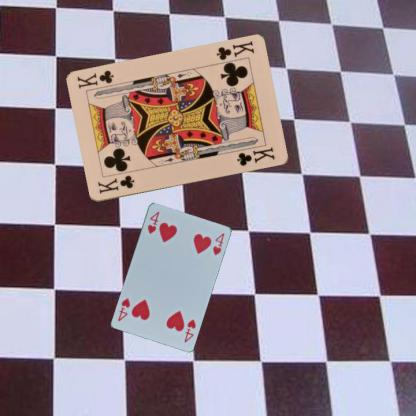4h: (181, 316, 197, 343), (145, 209, 161, 235)
Kc: (214, 37, 256, 62), (95, 173, 135, 195)
